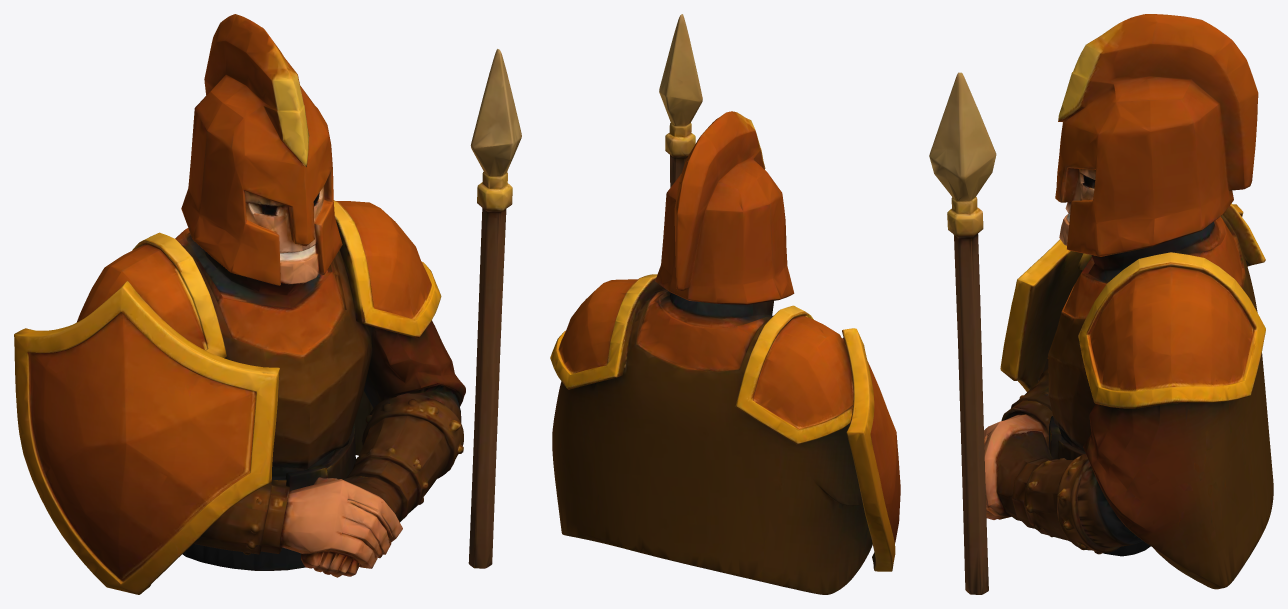
Rendered from guard.glb.
3 renders of one model, left to right at view 1: azimuth 30°, elevation 25°; view 2: azimuth 150°, elevation 25°; view 3: azimuth 270°, elevation 25°, orthographic. The views are drawn at different scales.
Parts seen in each view (by area): view 1: node_0; view 2: node_0; view 3: node_0.
Boxes of the visible parts, bbox=[...] form: node_0: bbox=[14, 14, 521, 594]; node_0: bbox=[550, 14, 900, 594]; node_0: bbox=[929, 14, 1273, 594].
Size of the model in its own units: 0.7645 by 0.9395 by 0.5611.
Materials: 1 (1 with a texture image).
